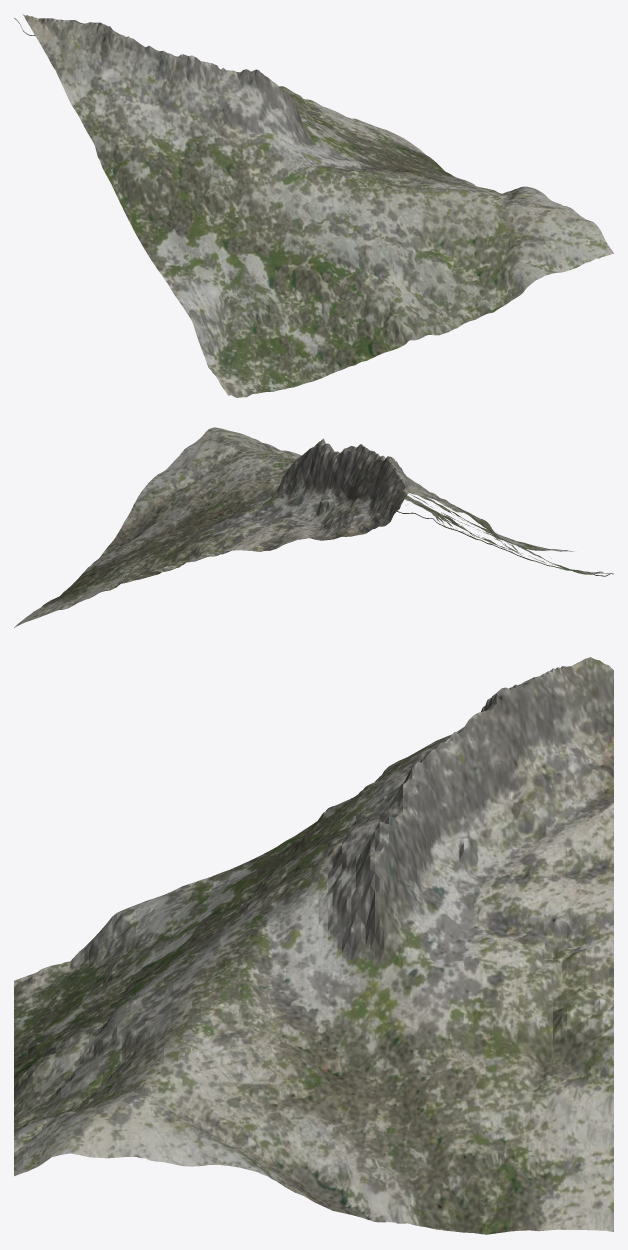
3 renders of one model, top to bottom at view 1: azimuth 30°, elevation 25°; view 2: azimuth 150°, elevation 25°; view 3: azimuth 270°, elevation 25°, orthographic. The views are drawn at different scales.
Bounding box in the file's own units: 500 × 299 × 481.
1 material, 1 textured.
